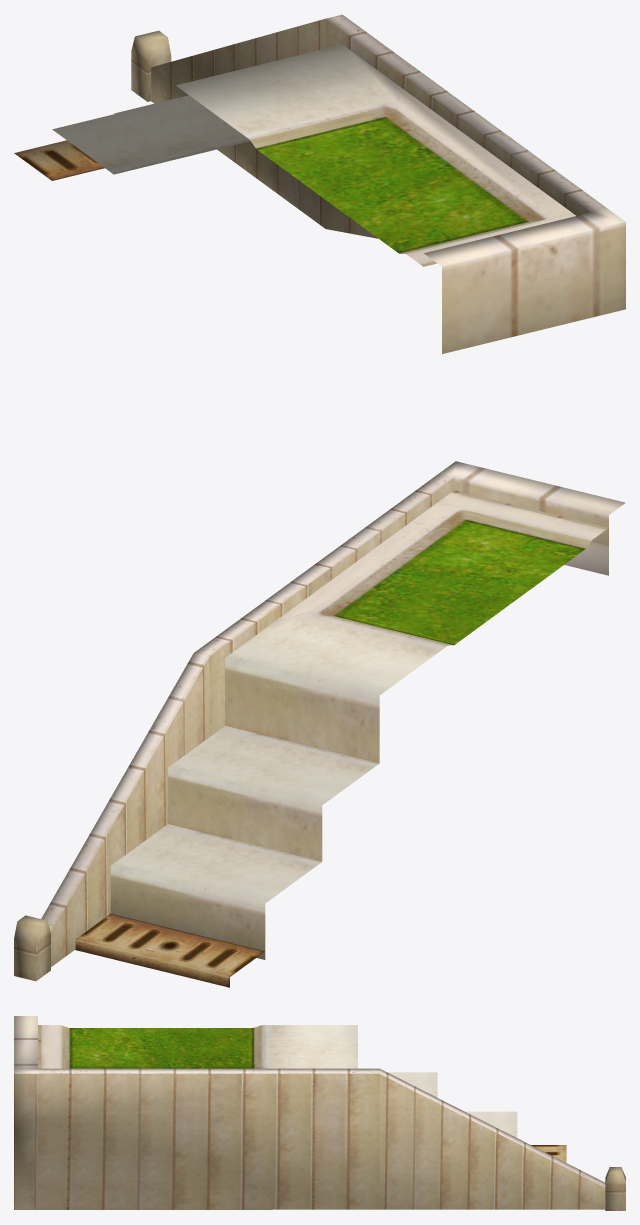
Rendered from a_SEstand03_1.glb.
The picture shows the model from 3 angles, top to bottom: view 1: azimuth 30°, elevation 25°; view 2: azimuth 150°, elevation 25°; view 3: azimuth 270°, elevation 25°; orthographic projection. The views are drawn at different scales.
Visible parts, largest first — view 1: a_SEstand03_1; view 2: a_SEstand03_1; view 3: a_SEstand03_1.
Part boxes in pixels (<box>): a_SEstand03_1: <box>14,14,625,353</box>; a_SEstand03_1: <box>14,461,625,987</box>; a_SEstand03_1: <box>14,1016,625,1210</box>.
Bounding box in the file's own units: 2.07 × 2.23 × 9.08.
Materials: 1 (1 with a texture image).
